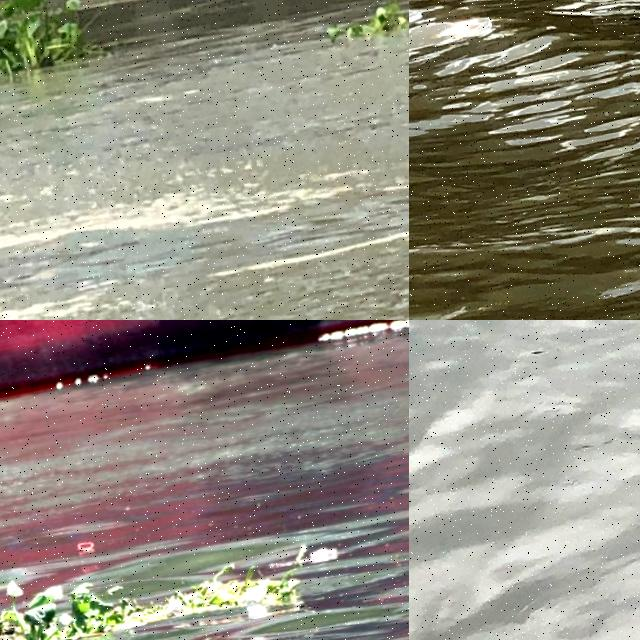water-hyacinth: (1, 555, 329, 640), (1, 1, 165, 108), (319, 5, 408, 40)
